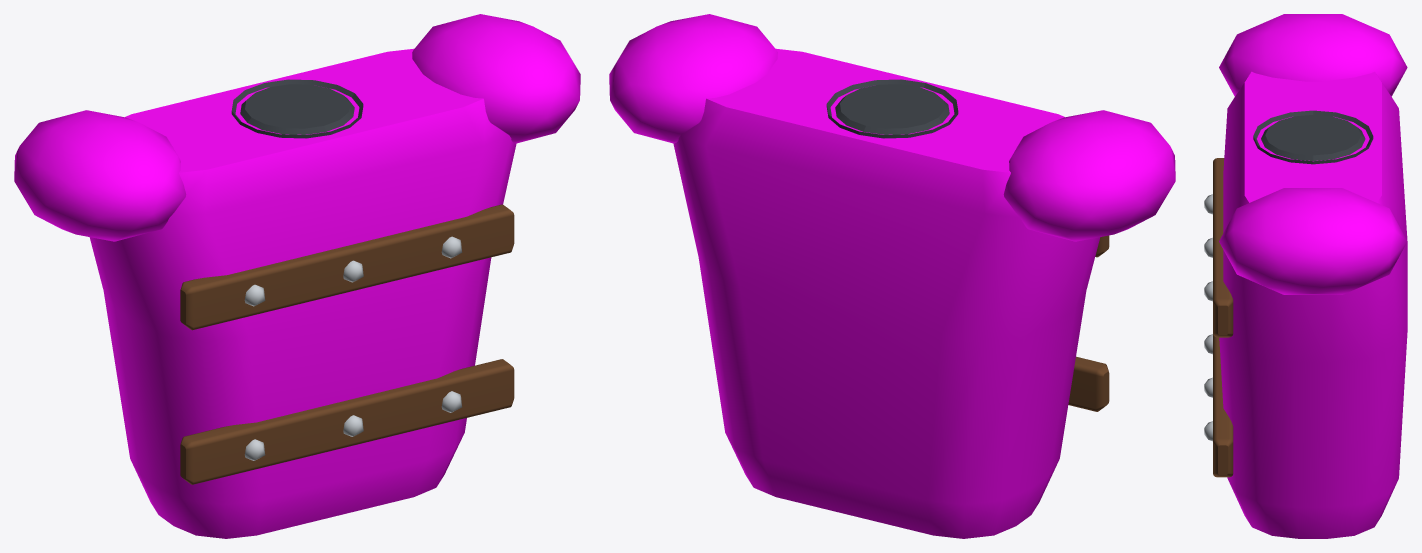
File: objet_armure1_plastron.glb
3 renders of one model, left to right at view 1: azimuth 30°, elevation 25°; view 2: azimuth 150°, elevation 25°; view 3: azimuth 270°, elevation 25°, orthographic. The views are drawn at different scales.
Visible parts, largest first — view 1: plastron_teinte.006, plastron_sac_cuir.002, plastron_teinte_sombre.006, plastron_rivet.004; view 2: plastron_teinte.006, plastron_teinte_sombre.006, plastron_sac_cuir.002; view 3: plastron_teinte.006, plastron_teinte_sombre.006, plastron_sac_cuir.002, plastron_rivet.004.
Boxes of the visible parts, left/top/right/bottom form: plastron_teinte.006: left=14, top=14, right=580, bottom=538; plastron_sac_cuir.002: left=180, top=204, right=514, bottom=484; plastron_teinte_sombre.006: left=231, top=79, right=363, bottom=138; plastron_rivet.004: left=244, top=236, right=462, bottom=460; plastron_teinte.006: left=609, top=14, right=1175, bottom=538; plastron_teinte_sombre.006: left=826, top=79, right=958, bottom=138; plastron_sac_cuir.002: left=1068, top=235, right=1109, bottom=411; plastron_teinte.006: left=1219, top=14, right=1407, bottom=538; plastron_teinte_sombre.006: left=1253, top=110, right=1373, bottom=164; plastron_sac_cuir.002: left=1213, top=158, right=1233, bottom=477; plastron_rivet.004: left=1204, top=194, right=1212, bottom=441.
Bounding box in the file's own units: 0.3256 × 0.24 × 0.1185.
